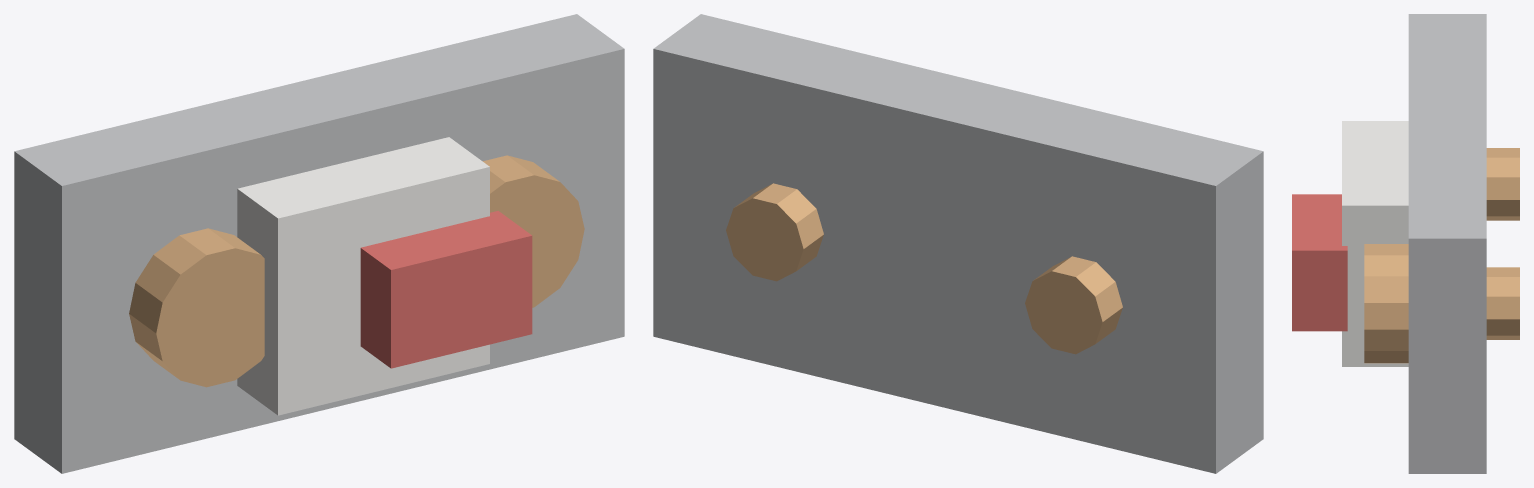
The model's file is snap_switch.glb.
3 renders of one model, left to right at view 1: azimuth 30°, elevation 25°; view 2: azimuth 150°, elevation 25°; view 3: azimuth 270°, elevation 25°, orthographic. The views are drawn at different scales.
Parts seen in each view (by area): view 1: plastic_gray, white_plastic, copper, plastic_red; view 2: plastic_gray, copper; view 3: plastic_gray, white_plastic, copper, plastic_red.
Part boxes in pixels (<box>): plastic_gray: <box>14,14,624,473</box>; white_plastic: <box>237,137,489,415</box>; copper: <box>129,155,584,387</box>; plastic_red: <box>360,211,532,368</box>; plastic_gray: <box>653,14,1263,473</box>; copper: <box>726,183,1122,354</box>; plastic_gray: <box>1408,14,1486,473</box>; white_plastic: <box>1342,121,1408,366</box>; copper: <box>1364,148,1519,363</box>; plastic_red: <box>1292,194,1347,331</box>.
Bounding box in the file's own units: 0.0478 × 0.0234 × 0.0205.
